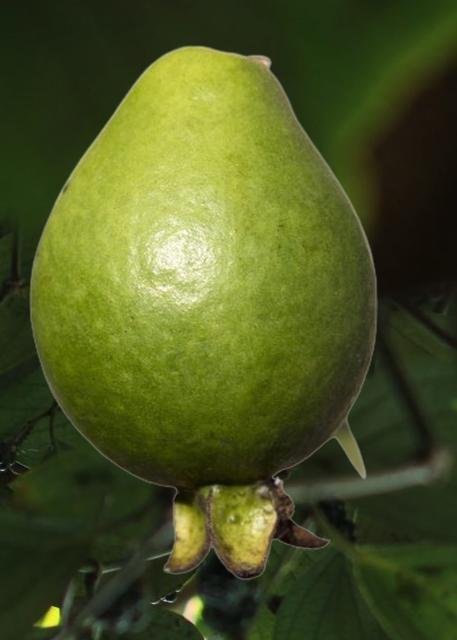guava: (29, 44, 376, 579)
